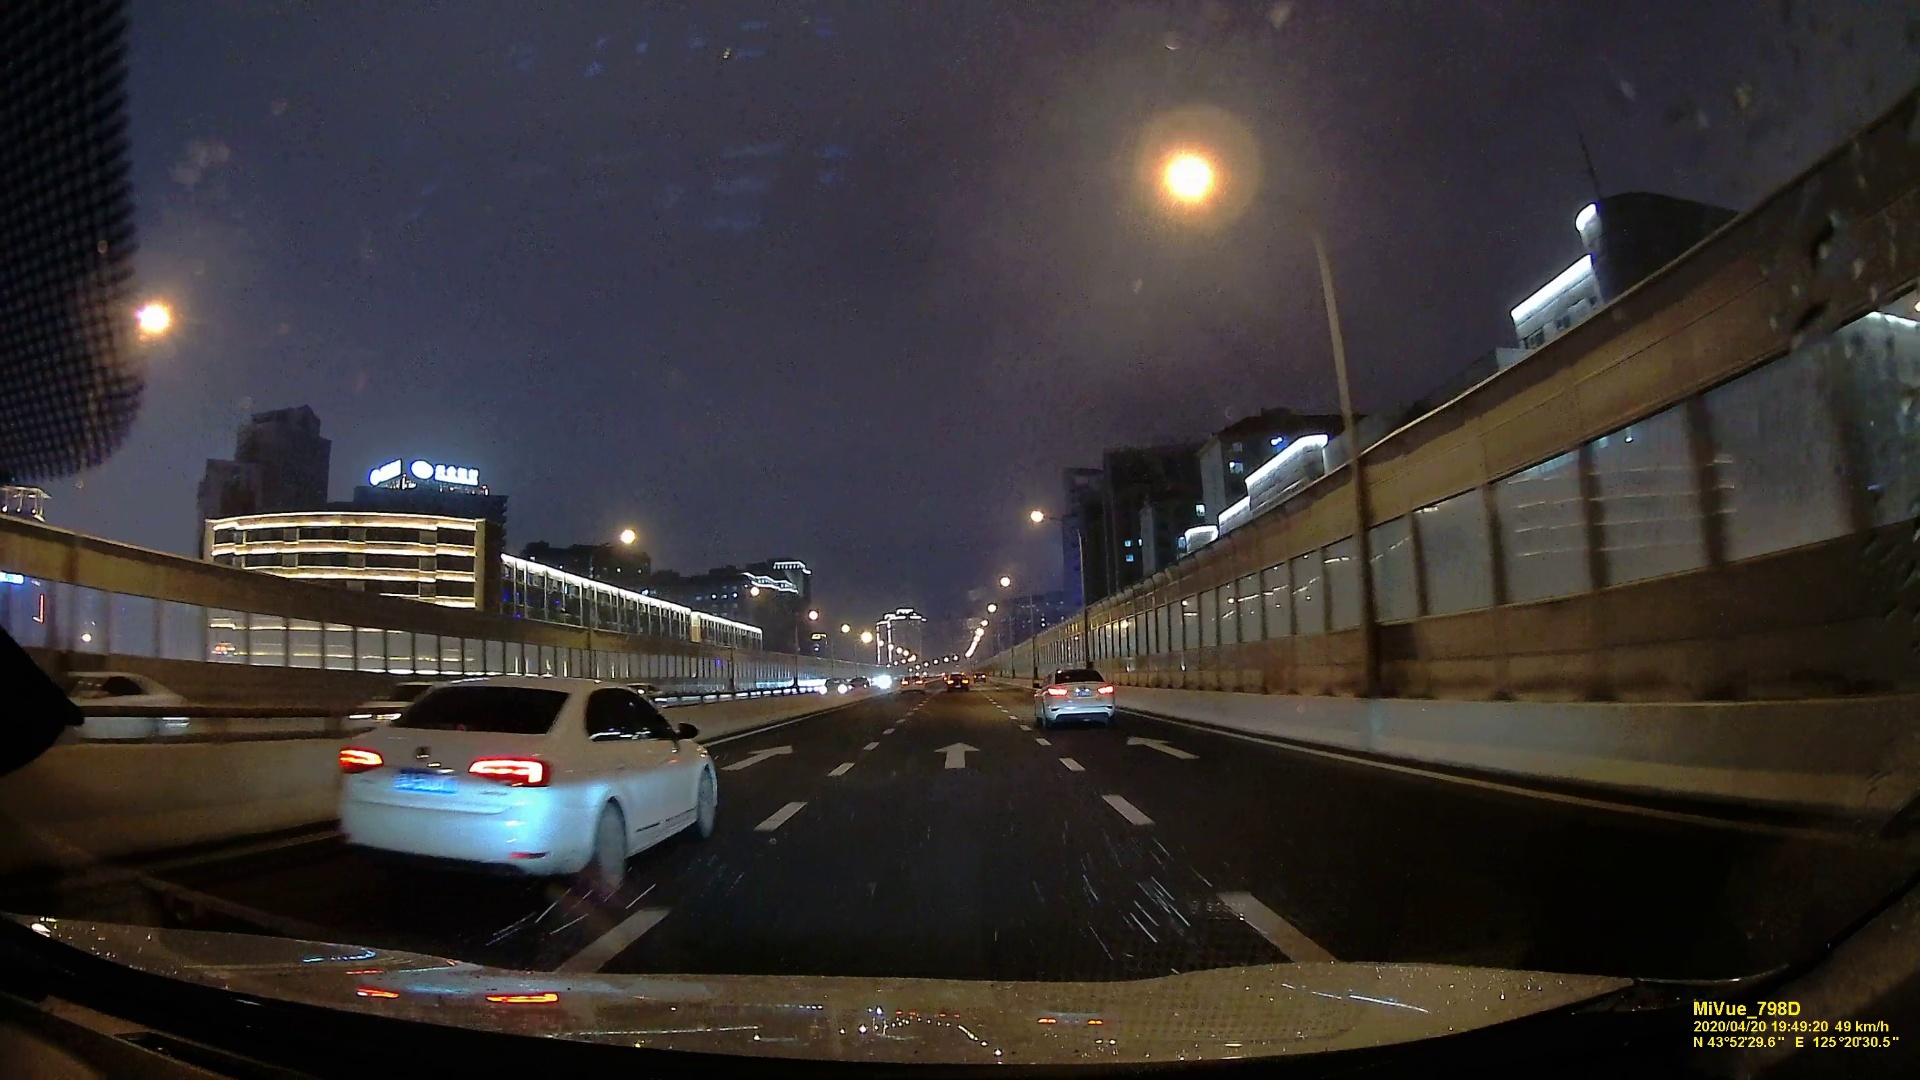vehicle: (336, 669, 735, 895), (1034, 665, 1116, 728), (816, 675, 851, 696), (899, 673, 924, 695), (945, 671, 971, 692)
